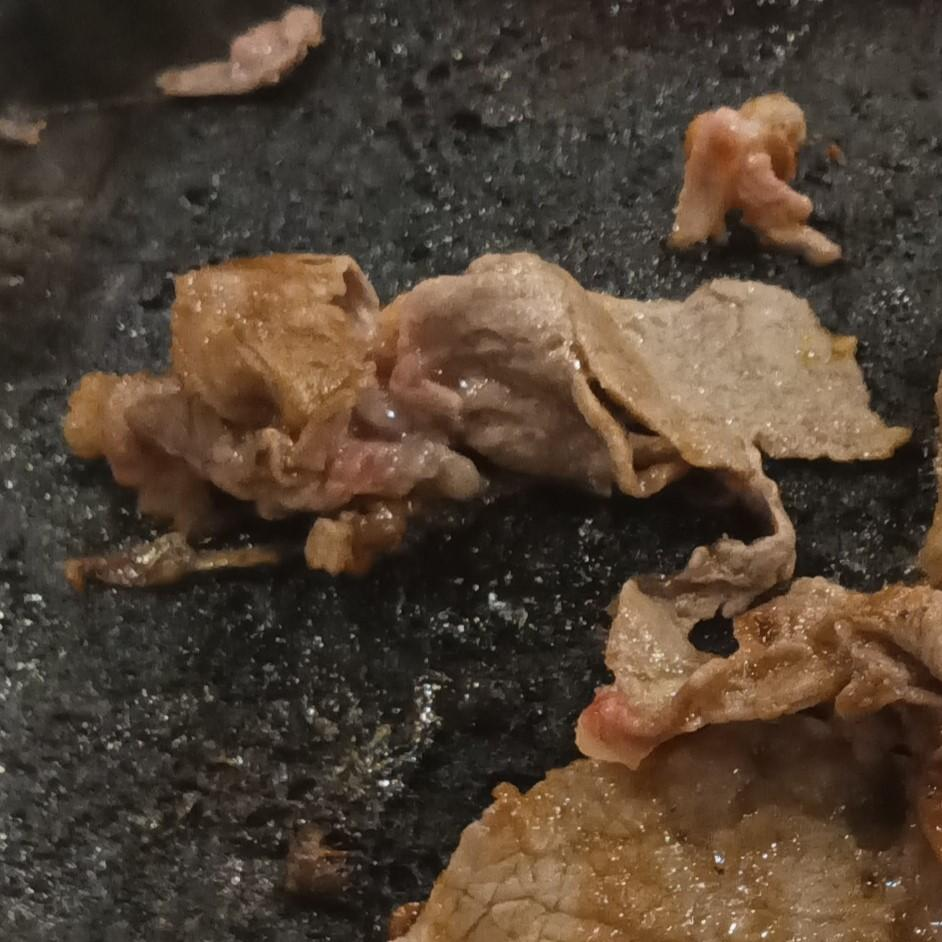Overcooked: (58, 247, 941, 941)
